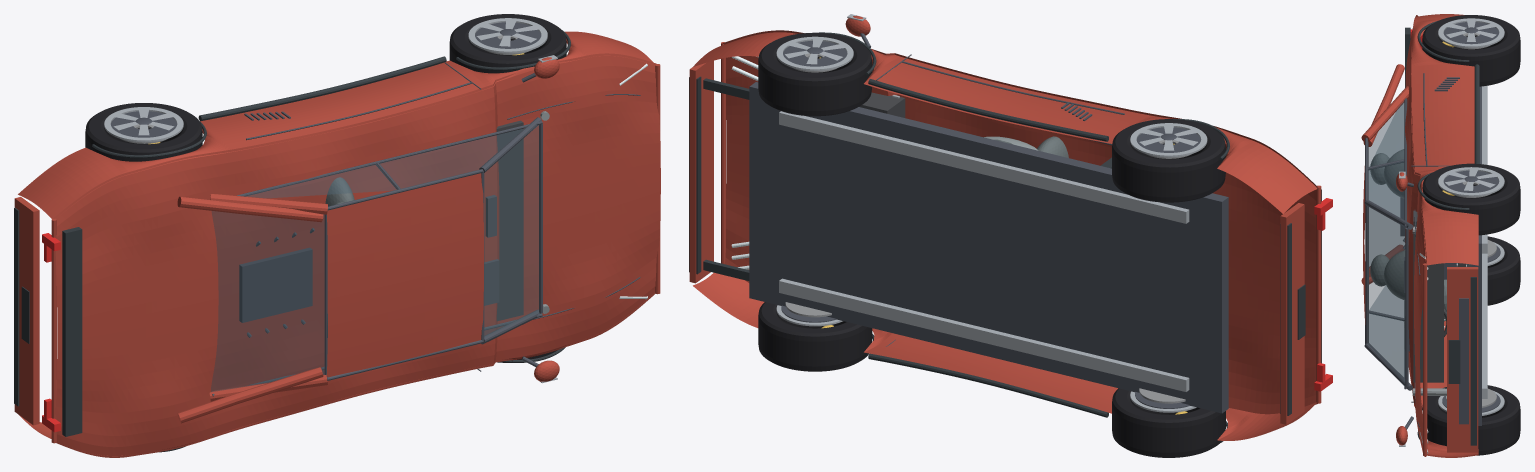
3 views of the same model, side by side, from view 1: azimuth 30°, elevation 25°; view 2: azimuth 150°, elevation 25°; view 3: azimuth 270°, elevation 25° (orthographic). The views are drawn at different scales.
Parts seen in each view (by area): view 1: body_paint, body_glass, body_black, body_windshield, body_accent, body_dash, wheel_rear_R_rubber, wheel_front_R_rubber, wheel_rear_R_metal, wheel_front_R_metal, wheel_rear_R_black, wheel_front_R_black (+1 smaller); view 2: body_black, body_paint, body_metal, body_accent, wheel_front_R_rubber, wheel_rear_R_rubber, wheel_front_L_rubber, wheel_rear_L_rubber, wheel_front_R_metal, wheel_rear_R_metal, wheel_rear_R_black, wheel_front_R_black (+2 smaller); view 3: body_paint, body_glass, body_black, body_windshield, wheel_rear_R_rubber, wheel_front_R_rubber, body_accent, wheel_front_L_rubber, body_dash, body_seat, wheel_rear_L_rubber, body_metal (+7 smaller).
Part boxes in pixels (left/top/right/bottom): body_paint: left=14, top=31, right=660, bottom=457; body_glass: left=211, top=125, right=538, bottom=391; body_black: left=212, top=62, right=640, bottom=396; body_windshield: left=484, top=125, right=538, bottom=336; body_accent: left=14, top=30, right=570, bottom=452; body_dash: left=496, top=120, right=523, bottom=321; wheel_rear_R_rubber: left=85, top=103, right=202, bottom=161; wheel_front_R_rubber: left=449, top=14, right=566, bottom=73; wheel_rear_R_metal: left=104, top=107, right=183, bottom=142; wheel_front_R_metal: left=468, top=18, right=547, bottom=53; wheel_rear_R_black: left=110, top=111, right=177, bottom=137; wheel_front_R_black: left=475, top=22, right=541, bottom=48; body_black: left=749, top=33, right=1228, bottom=413; body_paint: left=689, top=15, right=1321, bottom=440; body_metal: left=779, top=14, right=1189, bottom=391; body_accent: left=689, top=32, right=1321, bottom=442; wheel_front_R_rubber: left=758, top=32, right=872, bottom=116; wheel_rear_R_rubber: left=1112, top=119, right=1225, bottom=202; wheel_front_L_rubber: left=758, top=302, right=872, bottom=371; wheel_rear_L_rubber: left=1112, top=388, right=1225, bottom=457; wheel_front_R_metal: left=776, top=36, right=853, bottom=70; wheel_rear_R_metal: left=1130, top=123, right=1207, bottom=157; wheel_rear_R_black: left=1136, top=127, right=1200, bottom=152; wheel_front_R_black: left=783, top=41, right=847, bottom=66; body_paint: left=1361, top=14, right=1478, bottom=457; body_glass: left=1368, top=99, right=1407, bottom=385; body_black: left=1364, top=73, right=1481, bottom=429; body_windshield: left=1368, top=207, right=1404, bottom=382; wheel_rear_R_rubber: left=1422, top=15, right=1520, bottom=86; wheel_front_R_rubber: left=1422, top=163, right=1520, bottom=235; body_accent: left=1405, top=21, right=1479, bottom=445; wheel_front_L_rubber: left=1422, top=385, right=1520, bottom=455; body_dash: left=1404, top=210, right=1465, bottom=382; body_seat: left=1370, top=149, right=1446, bottom=319; wheel_rear_L_rubber: left=1457, top=236, right=1520, bottom=305; body_metal: left=1399, top=85, right=1487, bottom=446.
Bounding box in the file's own units: 4.5 × 2.24 × 1.19.
